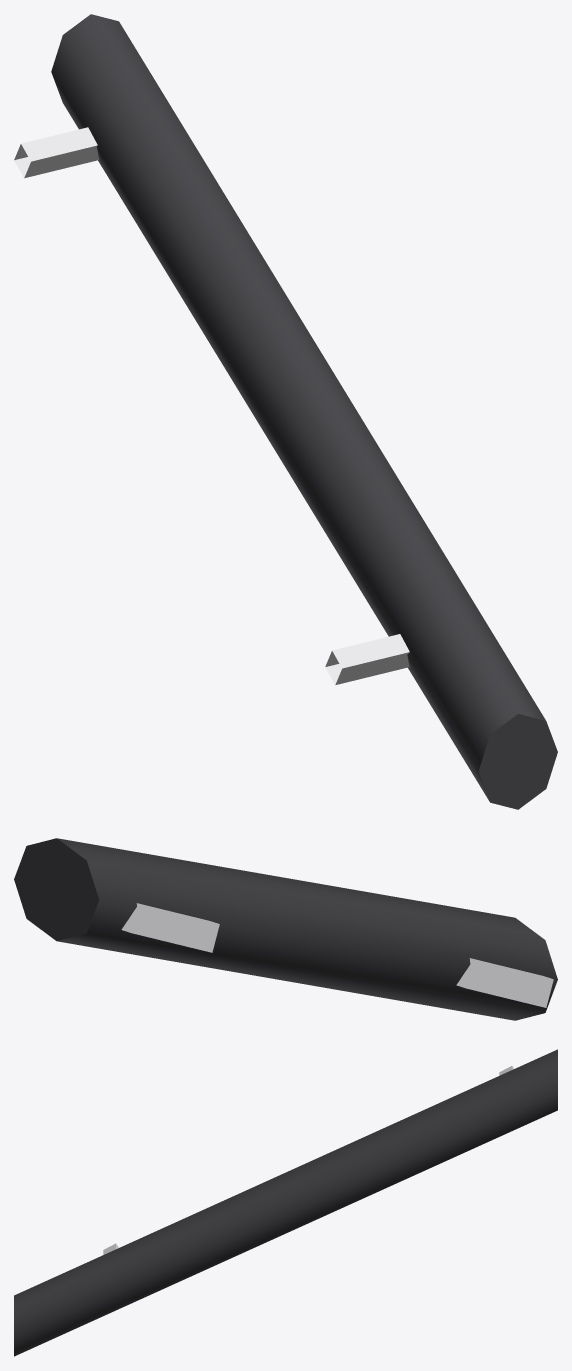
File: SM_Buildings_Stairs_Railing_01.fbx
3 views of the same model, one above another, from view 1: azimuth 30°, elevation 25°; view 2: azimuth 150°, elevation 25°; view 3: azimuth 270°, elevation 25° (orthographic). The views are drawn at different scales.
Visible parts, largest first — view 1: SM_Buildings_Stairs_Railing_01; view 2: SM_Buildings_Stairs_Railing_01; view 3: SM_Buildings_Stairs_Railing_01.
Part boxes in pixels (x1,y1,x2,y2): SM_Buildings_Stairs_Railing_01: (14,14,557,809); SM_Buildings_Stairs_Railing_01: (14,838,557,1020); SM_Buildings_Stairs_Railing_01: (14,1049,557,1356).
Bounding box in the file's own units: 19.68 × 62.35 × 100.
1 material, 1 textured.
